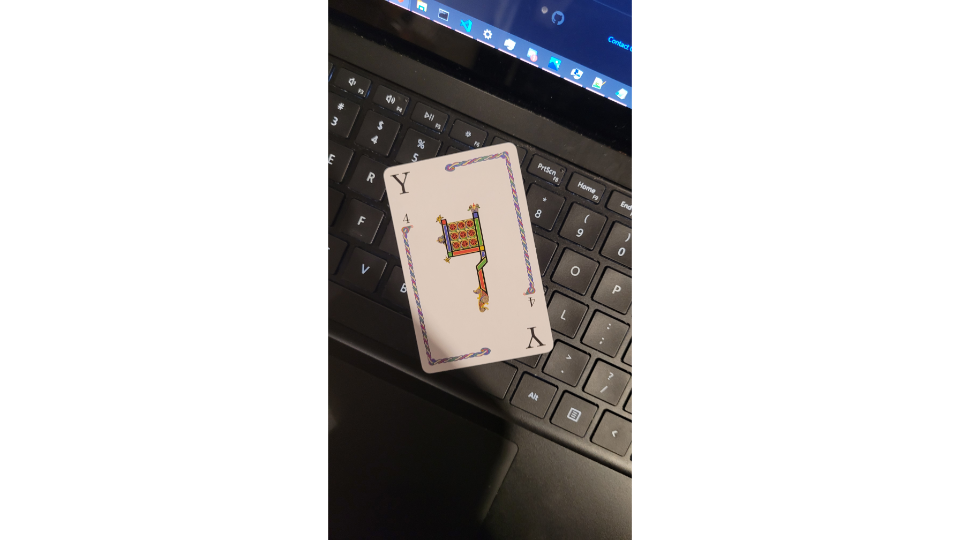Y: (381, 140, 556, 376)
